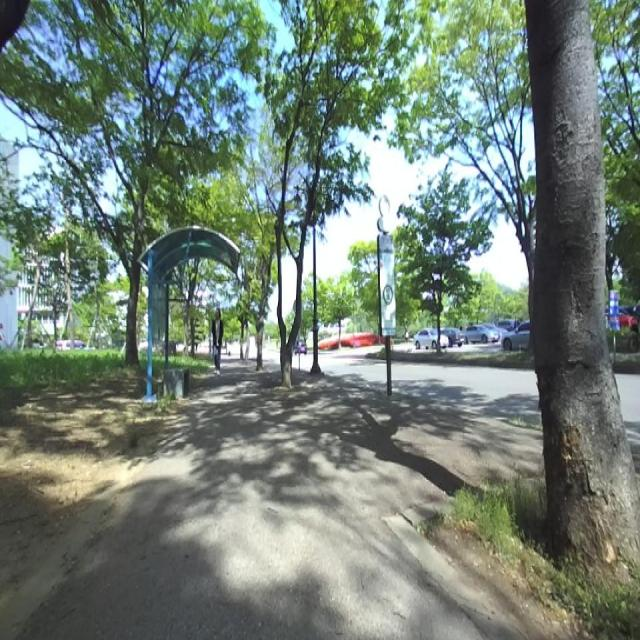sidewalk: (16, 364, 543, 639)
